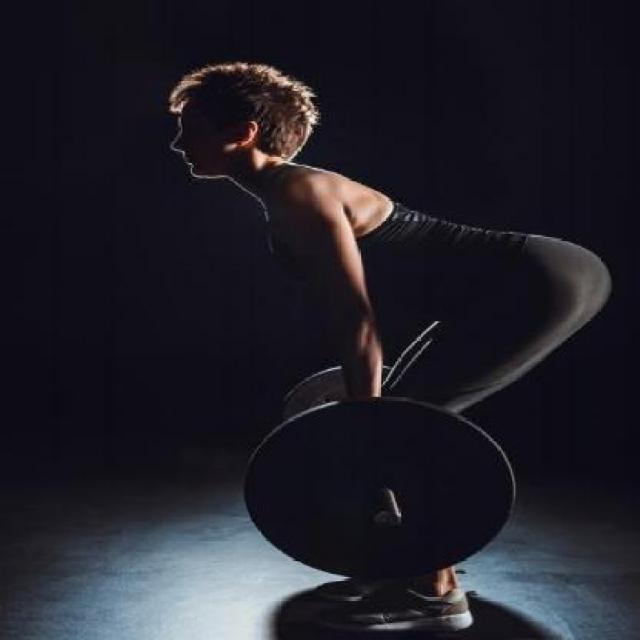Barbell: (376, 507, 418, 535)
